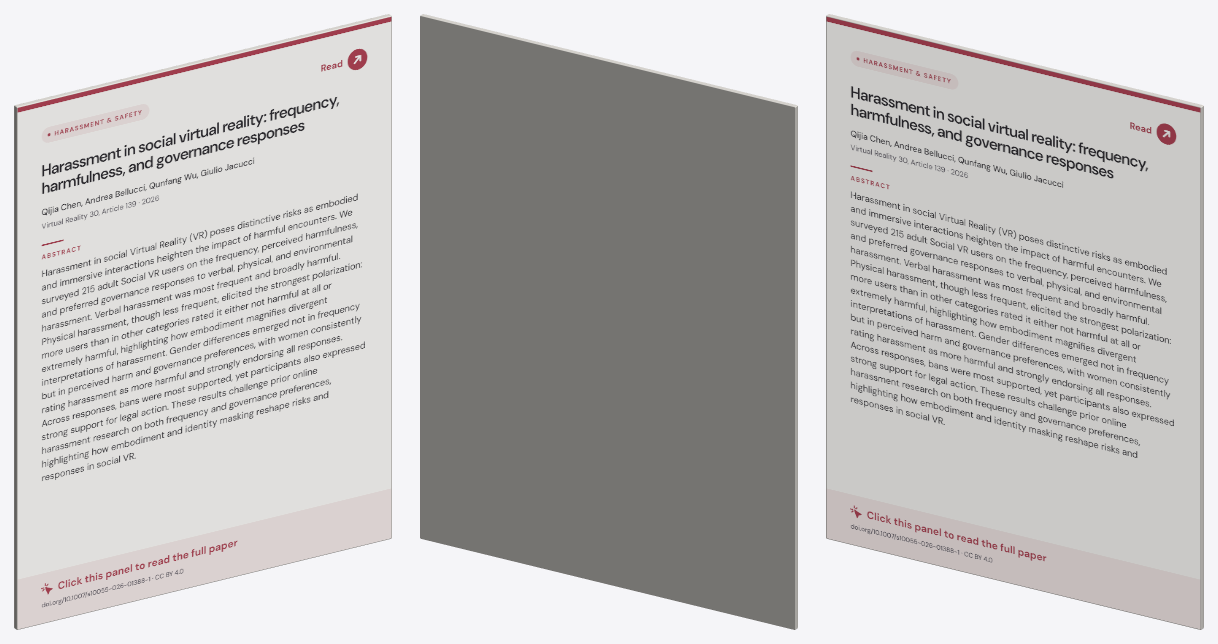
The model's file is chen-2026.glb.
The picture shows the model from 3 angles, left to right: view 1: azimuth 30°, elevation 25°; view 2: azimuth 150°, elevation 25°; view 3: azimuth 330°, elevation 25°; orthographic projection.
Visible parts, largest first — view 1: chen-2026; view 2: chen-2026; view 3: chen-2026.
Part boxes in pixels (x1=…): chen-2026: x1=14, y1=14, x2=391, y2=629; chen-2026: x1=420, y1=14, x2=797, y2=629; chen-2026: x1=826, y1=14, x2=1203, y2=629.
Bounding box in the file's own units: 0.904 × 1.2 × 0.012.
Materials: 2 (1 with a texture image).
